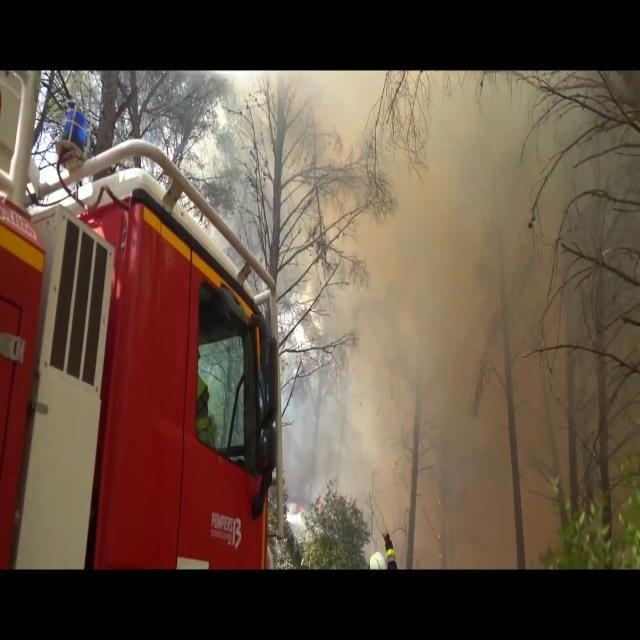Smoke: (300, 72, 630, 536)
